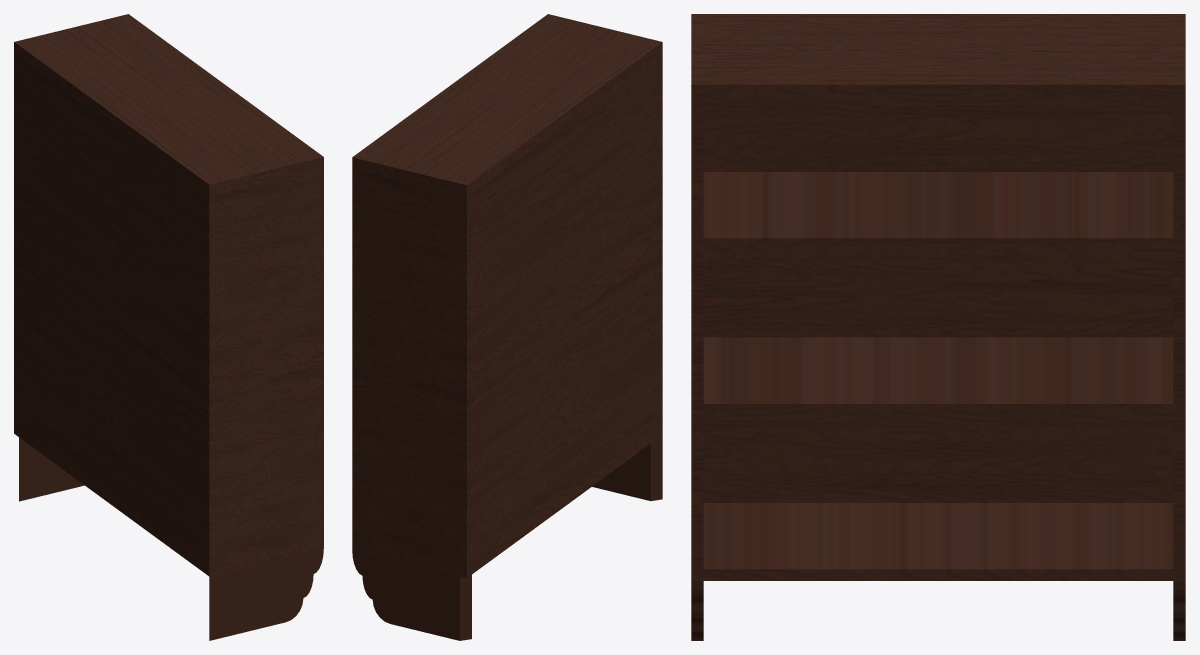
The model's file is libreroPared.obj.
3 renders of one model, left to right at view 1: azimuth 30°, elevation 25°; view 2: azimuth 150°, elevation 25°; view 3: azimuth 270°, elevation 25°, orthographic. The views are drawn at different scales.
Size of the model in its own units: 113 by 430 by 334.
1 material, 1 textured.
